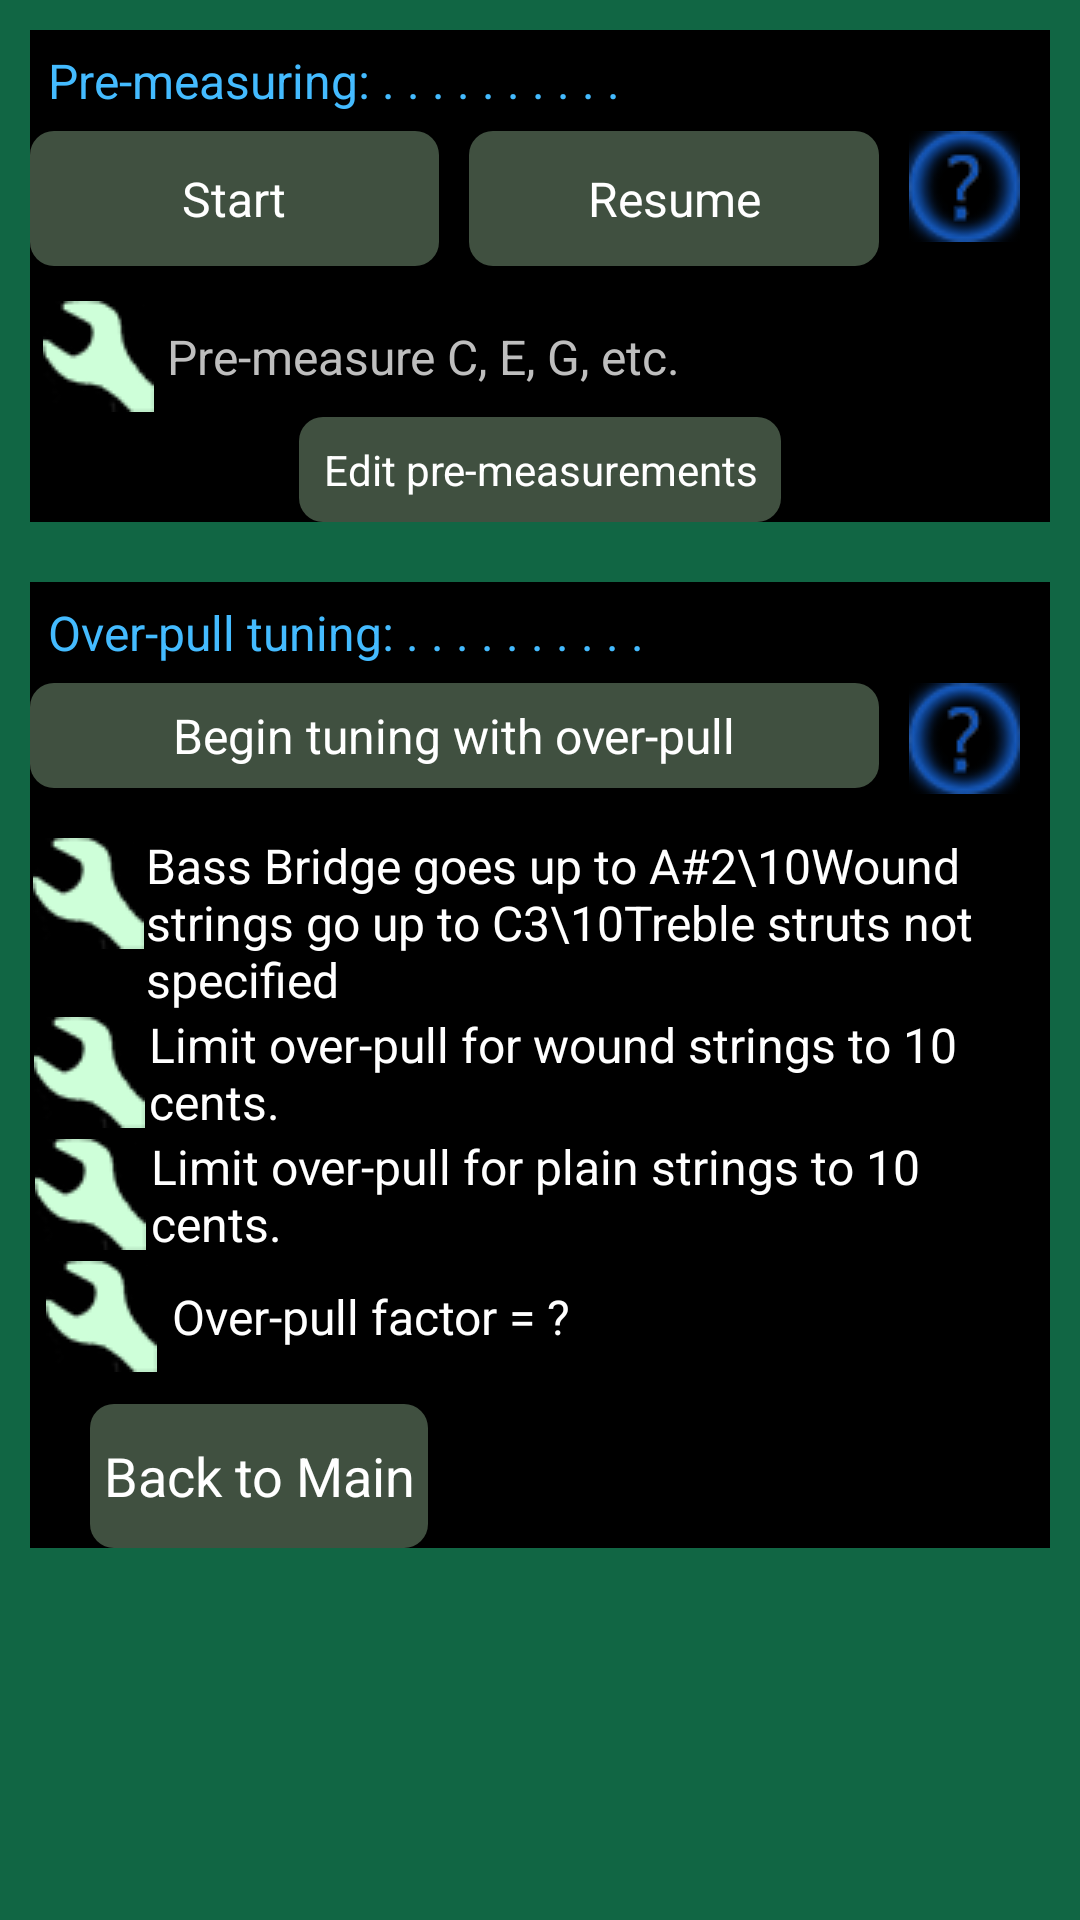

Screen size 1080px x 1920px. Icon name, then its center in pixels as point (x, y):
help: point (964, 186), point (964, 738)
wrench: point (98, 356), point (88, 893), point (89, 1072), point (90, 1194), point (101, 1316)
